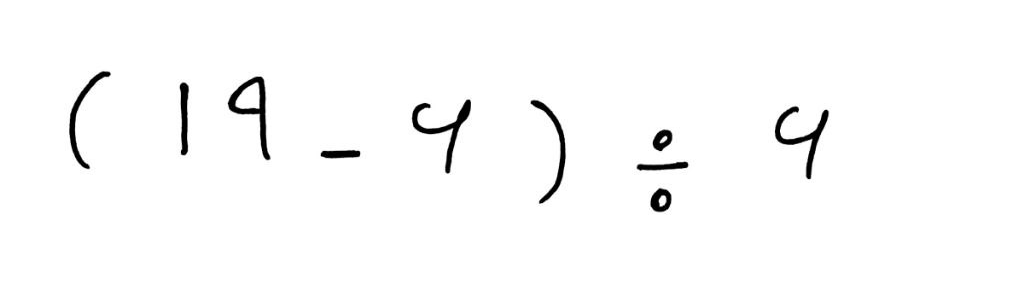character: (410, 98, 473, 176), (66, 70, 113, 172), (527, 99, 570, 208), (635, 128, 687, 215), (773, 105, 830, 182), (227, 72, 272, 161), (179, 81, 191, 156), (317, 148, 361, 161)
